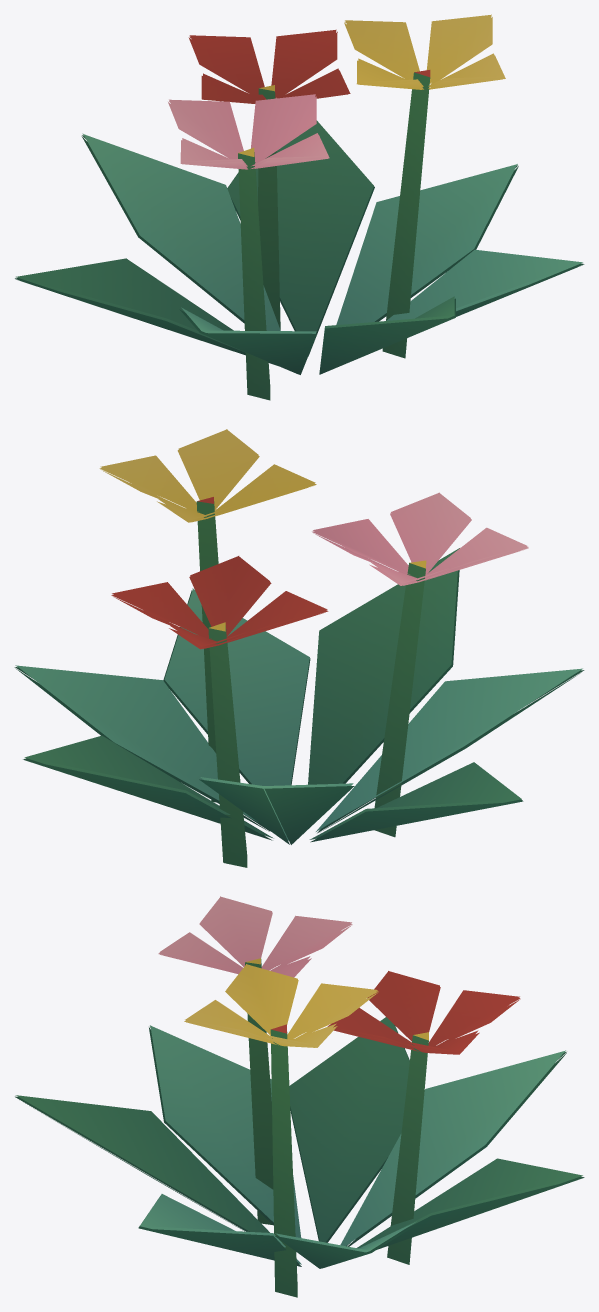
File: custom-flores-mata.glb
3 views of the same model, one above another, from view 1: azimuth 30°, elevation 25°; view 2: azimuth 150°, elevation 25°; view 3: azimuth 270°, elevation 25° (orthographic). The views are drawn at different scales.
Parts seen in each view (by area): view 1: flores-mata; view 2: flores-mata; view 3: flores-mata.
Boxes of the visible parts, left/top/right/bottom form: flores-mata: left=15, top=14, right=584, bottom=400; flores-mata: left=14, top=429, right=584, bottom=867; flores-mata: left=15, top=896, right=584, bottom=1297.
Bounding box in the file's own units: 1.31 × 0.775 × 1.33.
